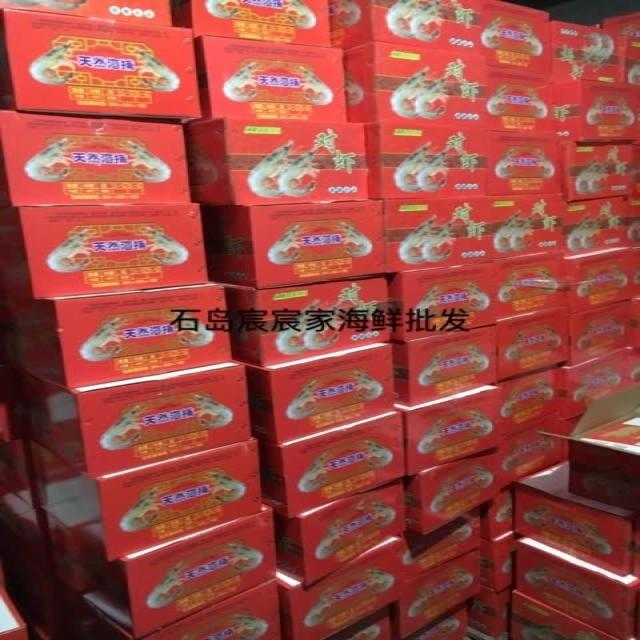box: (47, 502, 277, 639), (31, 438, 263, 562), (19, 360, 253, 478), (12, 279, 233, 389), (0, 9, 201, 126), (0, 203, 209, 299), (0, 105, 192, 208), (208, 272, 391, 367), (183, 118, 369, 207), (200, 199, 384, 288), (257, 409, 407, 517), (245, 342, 396, 445), (513, 457, 639, 578), (183, 35, 348, 126), (273, 476, 408, 586), (276, 533, 407, 640), (537, 383, 640, 515), (515, 536, 639, 639), (343, 42, 487, 127), (364, 122, 491, 199), (395, 384, 501, 476), (384, 261, 497, 342), (391, 324, 497, 407), (389, 549, 483, 640), (407, 445, 501, 536), (383, 197, 493, 273), (329, 0, 481, 53), (171, 0, 331, 47), (501, 411, 585, 491), (400, 505, 481, 580), (49, 575, 137, 640), (507, 589, 621, 639), (496, 304, 569, 382), (489, 363, 557, 445), (479, 0, 553, 75), (553, 79, 640, 142), (487, 194, 567, 260), (493, 249, 567, 320), (556, 299, 632, 368), (557, 346, 628, 419), (487, 132, 565, 197), (484, 66, 555, 135), (563, 140, 640, 202), (564, 246, 632, 313), (551, 20, 621, 84), (0, 484, 49, 575), (0, 551, 52, 632), (564, 194, 629, 257), (1, 583, 63, 640), (477, 530, 525, 593), (0, 437, 39, 508), (401, 600, 468, 640), (468, 584, 515, 638), (321, 605, 391, 640), (0, 366, 31, 442), (480, 481, 516, 540), (0, 583, 28, 640), (0, 291, 19, 368), (620, 35, 640, 86), (601, 12, 640, 36), (627, 193, 640, 247), (627, 246, 640, 299), (628, 297, 640, 346), (628, 344, 640, 389), (633, 515, 640, 582)
